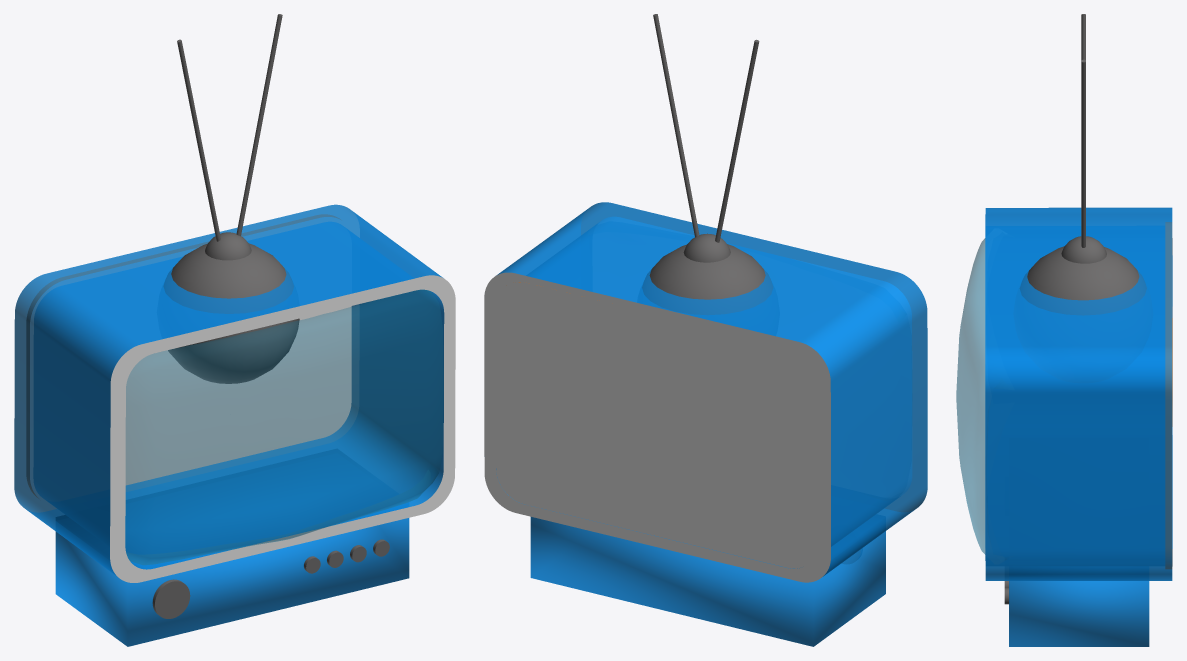
3 renders of one model, left to right at view 1: azimuth 30°, elevation 25°; view 2: azimuth 150°, elevation 25°; view 3: azimuth 270°, elevation 25°, orthographic. The views are drawn at different scales.
Visible parts, largest first — view 1: Extrude NURBS, Extrude NURBS.2, Cap 1, Cube, Cap 2.2, Sphere, Cap 1.2, Extrude NURBS.1, Cylinder.1, Cylinder.2, Cylinder, Sphere.1; view 2: Cap 2, Extrude NURBS, Cube, Cap 1.2, Cap 2.2, Sphere, Cylinder.1, Cylinder, Sphere.1; view 3: Extrude NURBS, Cube, Extrude NURBS.2, Sphere, Extrude NURBS.1, Sphere.1, Cylinder.1.
Boxes of the visible parts, bbox=[...] form: Extrude NURBS: bbox=[14, 204, 444, 576]; Extrude NURBS.2: bbox=[125, 289, 443, 565]; Cap 1: bbox=[30, 217, 355, 504]; Cube: bbox=[55, 449, 409, 646]; Cap 2.2: bbox=[110, 275, 455, 582]; Sphere: bbox=[163, 243, 299, 383]; Cap 1.2: bbox=[14, 205, 359, 512]; Extrude NURBS.1: bbox=[26, 214, 338, 496]; Cylinder.1: bbox=[236, 14, 282, 236]; Cylinder.2: bbox=[152, 579, 190, 618]; Cylinder: bbox=[177, 39, 220, 241]; Sphere.1: bbox=[205, 232, 251, 260]; Cap 2: bbox=[491, 282, 815, 568]; Extrude NURBS: bbox=[496, 202, 927, 576]; Cube: bbox=[530, 514, 885, 646]; Cap 1.2: bbox=[484, 272, 830, 582]; Cap 2.2: bbox=[581, 202, 927, 511]; Sphere: bbox=[642, 244, 772, 314]; Cylinder.1: bbox=[653, 14, 699, 237]; Cylinder: bbox=[715, 39, 759, 242]; Sphere.1: bbox=[683, 233, 730, 262]; Extrude NURBS: bbox=[985, 207, 1172, 580]; Cube: bbox=[1009, 567, 1149, 646]; Extrude NURBS.2: bbox=[956, 238, 985, 554]; Sphere: bbox=[1020, 246, 1146, 315]; Extrude NURBS.1: bbox=[1165, 222, 1172, 568]; Sphere.1: bbox=[1061, 236, 1106, 263]; Cylinder.1: bbox=[1081, 59, 1085, 247].
Bounding box in the file's own units: 333 × 513 × 185.
